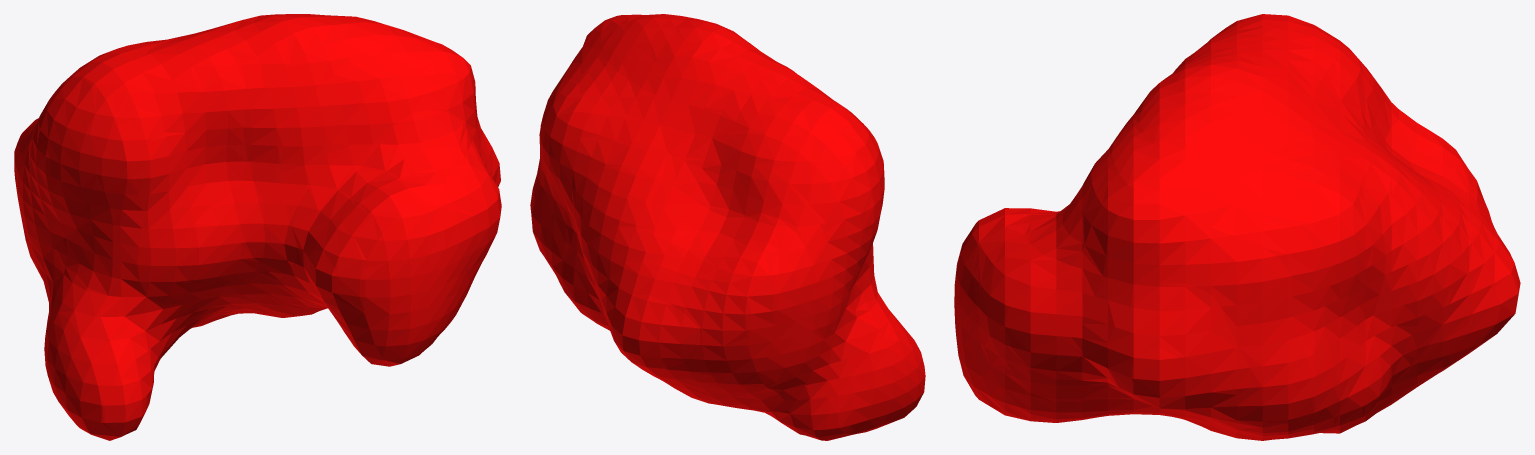
The model's file is yciI_coarse.dae.
3 renders of one model, left to right at view 1: azimuth 30°, elevation 25°; view 2: azimuth 150°, elevation 25°; view 3: azimuth 270°, elevation 25°, orthographic. The views are drawn at different scales.
Parts seen in each view (by area): view 1: yciI; view 2: yciI; view 3: yciI.
Boxes of the visible parts, x1,y1,x2,y2 form: yciI: [14, 14, 501, 440]; yciI: [530, 14, 925, 440]; yciI: [954, 14, 1520, 440].
Size of the model in its own units: 39.79 by 34.46 by 41.31.
